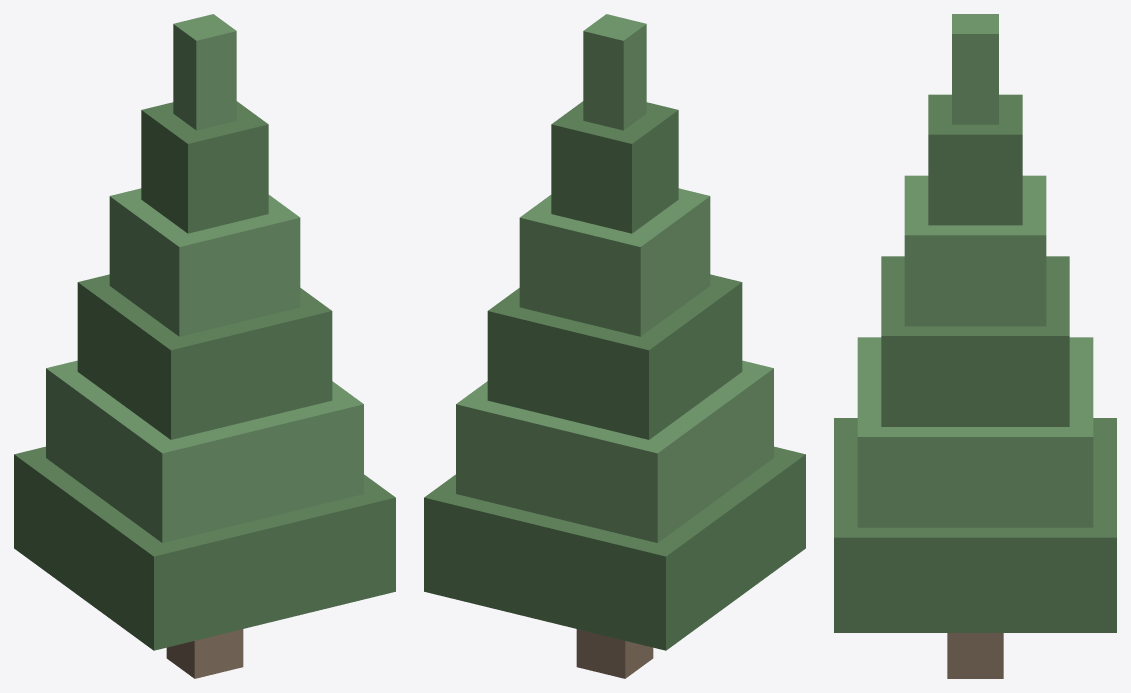
File: propvar_pine_l.glb
3 renders of one model, left to right at view 1: azimuth 30°, elevation 25°; view 2: azimuth 150°, elevation 25°; view 3: azimuth 270°, elevation 25°, orthographic.
Visible parts, largest first — view 1: PropVar_Pine_L; view 2: PropVar_Pine_L; view 3: PropVar_Pine_L.
Boxes of the visible parts, <box> form: PropVar_Pine_L: <box>14,14,395,678</box>; PropVar_Pine_L: <box>424,14,805,678</box>; PropVar_Pine_L: <box>834,14,1116,678</box>.
Size of the model in its own units: 3.6 by 9.03 by 3.6.
